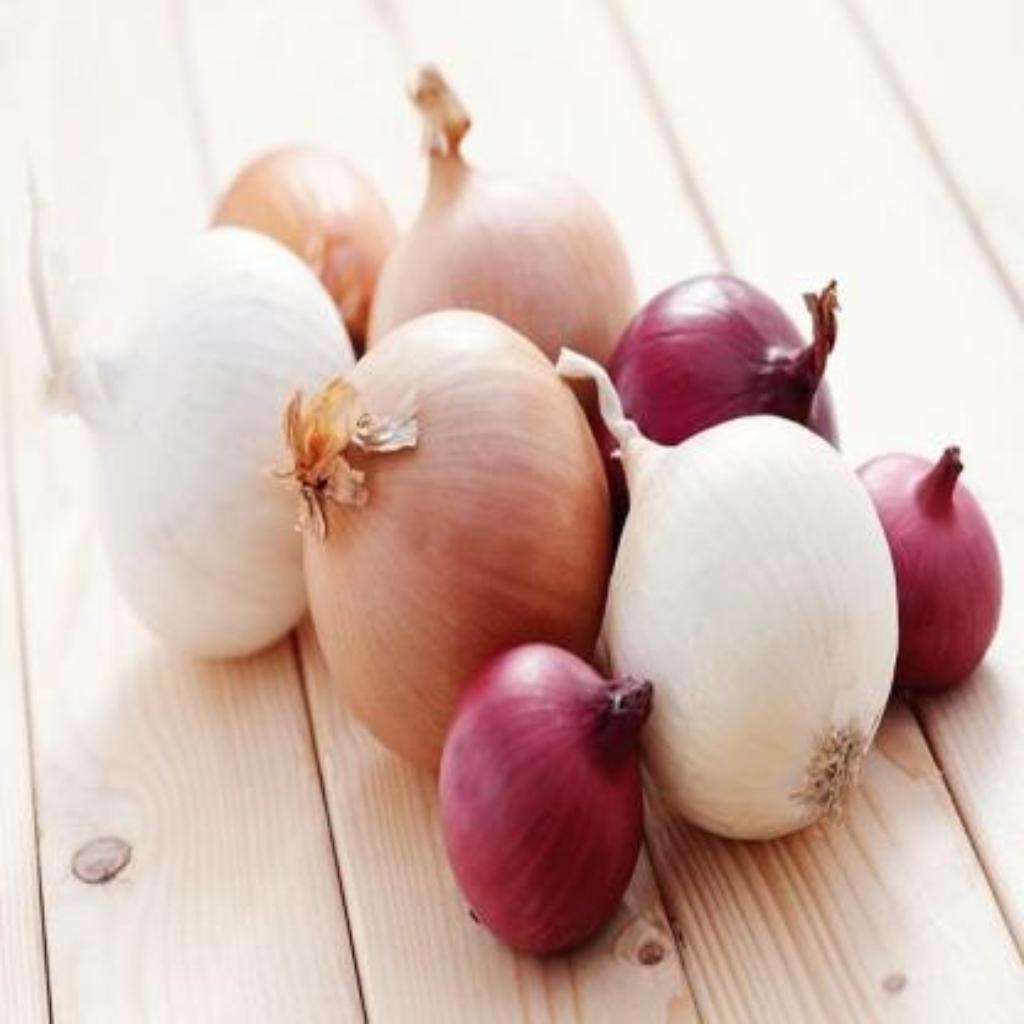Onion: (559, 352, 901, 841), (283, 310, 613, 767), (76, 229, 354, 660), (369, 66, 638, 363), (441, 645, 655, 956), (610, 276, 839, 444), (212, 148, 396, 351), (862, 446, 1004, 690)
